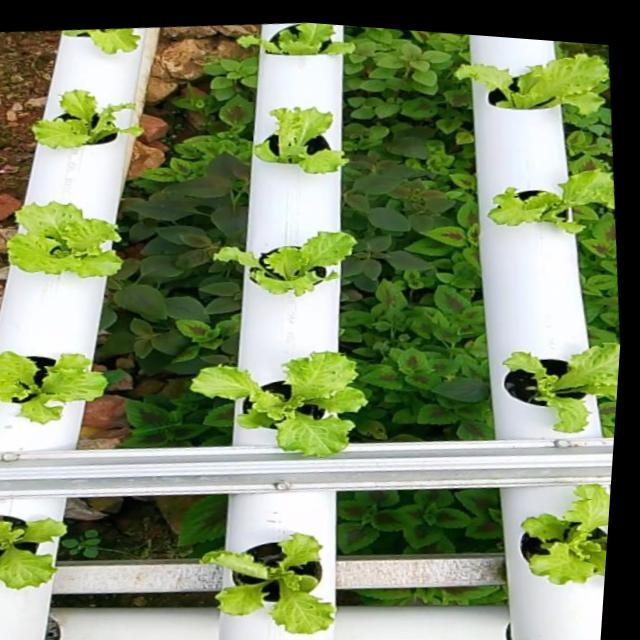Baby: (189, 347, 370, 453), (199, 532, 338, 635), (508, 338, 619, 430), (212, 224, 359, 290), (0, 194, 119, 272), (461, 43, 609, 105), (527, 483, 611, 584), (493, 159, 613, 226), (0, 346, 104, 421), (25, 79, 139, 140), (252, 97, 350, 165), (0, 515, 62, 590)
